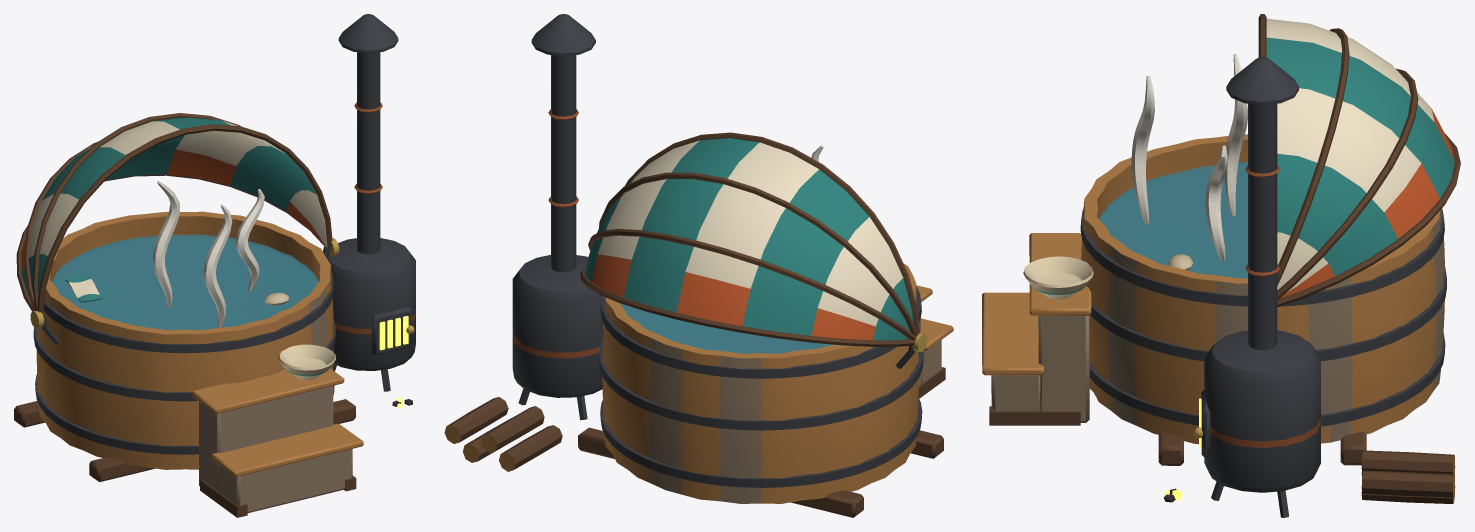
The model's file is deco_steam_tub.fbx.
The picture shows the model from 3 angles, left to right: view 1: azimuth 30°, elevation 25°; view 2: azimuth 150°, elevation 25°; view 3: azimuth 270°, elevation 25°; orthographic projection. The views are drawn at different scales.
Visible parts, largest first — view 1: SteamTub_Tub, SteamTub_Water, SteamTub_Hood, SteamTub_Step, SteamTub_Firebox; view 2: SteamTub_Hood, SteamTub_Tub, SteamTub_Firebox, SteamTub_Water, SteamTub_Step; view 3: SteamTub_Tub, SteamTub_Hood, SteamTub_Firebox, SteamTub_Step, SteamTub_Water.
Boxes of the visible parts, x1,y1,x2,y2 form: SteamTub_Tub: (14, 211, 355, 482); SteamTub_Water: (51, 181, 318, 329); SteamTub_Hood: (16, 113, 339, 328); SteamTub_Step: (191, 344, 363, 517); SteamTub_Firebox: (328, 14, 415, 408); SteamTub_Hood: (580, 132, 927, 351); SteamTub_Tub: (578, 263, 943, 517); SteamTub_Firebox: (444, 14, 603, 471); SteamTub_Water: (619, 145, 832, 353); SteamTub_Step: (916, 285, 953, 398); SteamTub_Tub: (1080, 134, 1446, 465); SteamTub_Hood: (1258, 14, 1460, 307); SteamTub_Firebox: (1163, 57, 1455, 517); SteamTub_Step: (982, 233, 1093, 425); SteamTub_Water: (1099, 54, 1247, 278).
Size of the model in its own units: 290 by 269 by 263.
